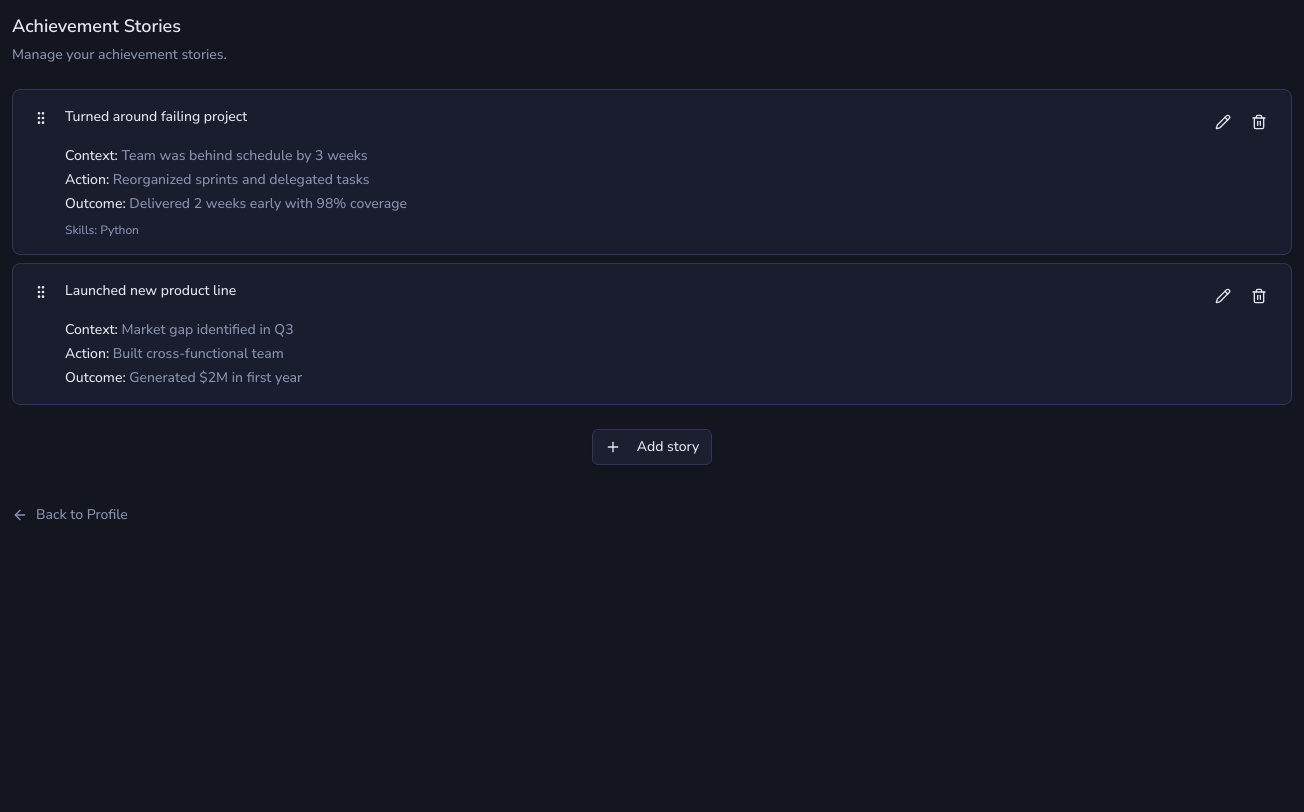
Test: AchievementStoriesEditor › add › returns to list on cancel
The width and height of the screenshot is (1304, 812).
Click the button "Add story": point(652, 447) [592,429,712,465]
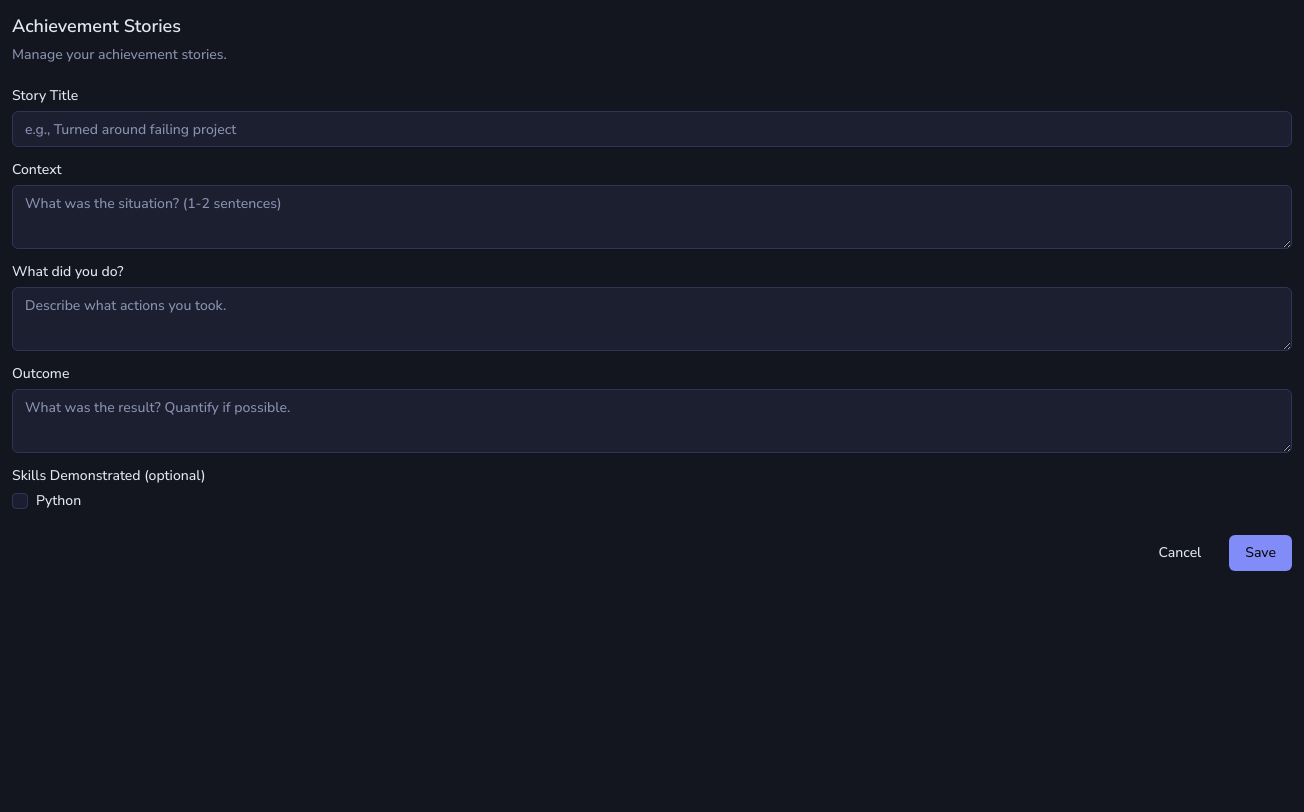
Result: the element with test id "story-form" is shown at [12,89,1292,571]
Click the button "Cancel": point(1180, 553) [1143,535,1217,571]
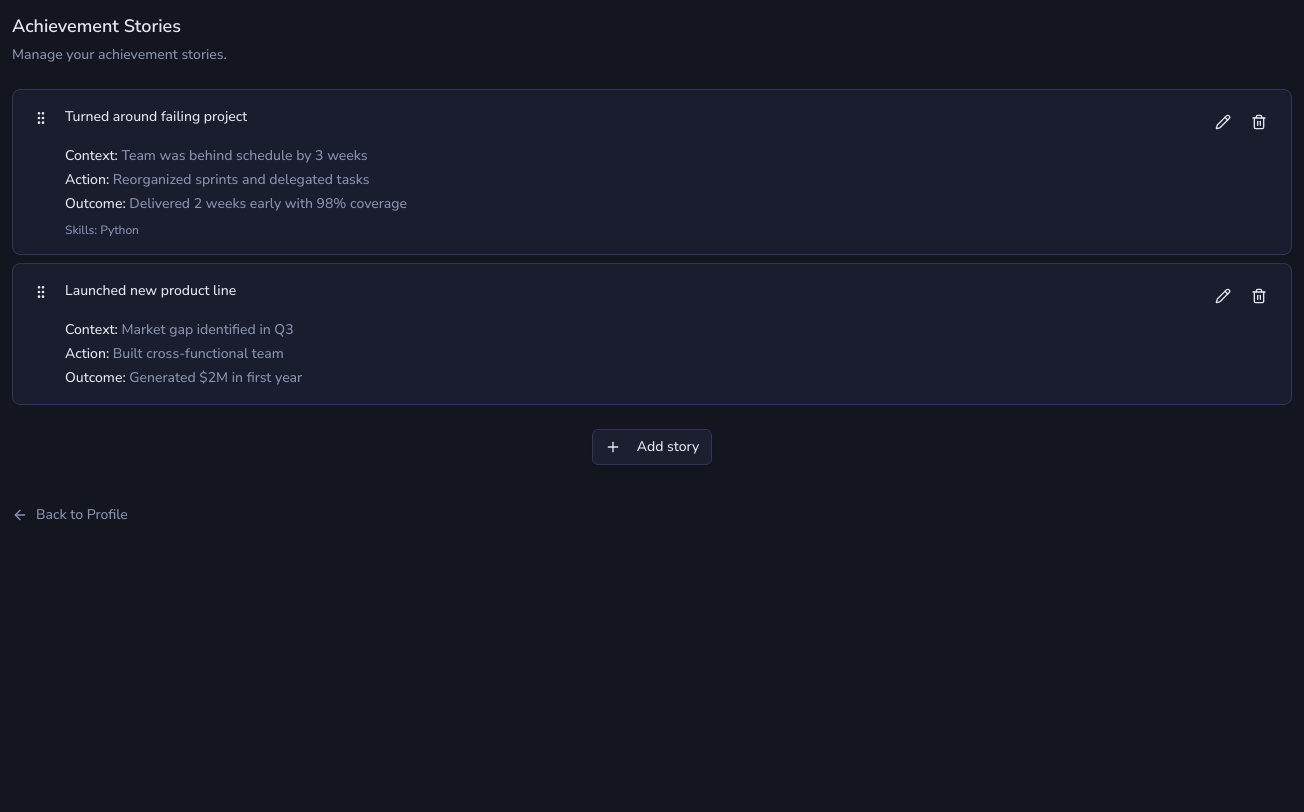
Result: the element with test id "story-form" is gone
Result: the heading "Turned around failing project" is shown at [65,106,247,127]
